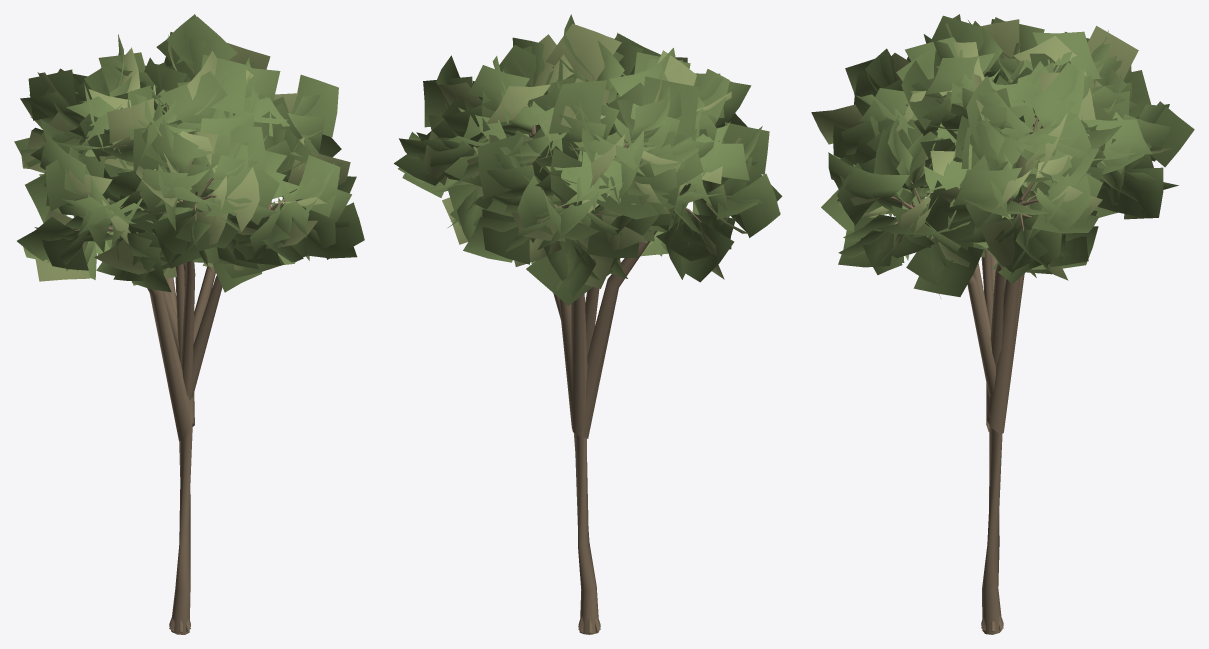
Rendered from roadside-oak.glb.
The picture shows the model from 3 angles, left to right: view 1: azimuth 30°, elevation 25°; view 2: azimuth 150°, elevation 25°; view 3: azimuth 270°, elevation 25°; orthographic projection. The views are drawn at different scales.
Visible parts, largest first — view 1: foliage, foliage-light, wood; view 2: foliage, foliage-light, wood; view 3: foliage, foliage-light, wood.
Part boxes in pixels (x1=…): foliage: x1=14, y1=14, x2=364, y2=292; foliage-light: x1=23, y1=35, x2=359, y2=285; wood: x1=75, y1=70, x2=301, y2=634; foliage: x1=394, y1=14, x2=782, y2=305; foliage-light: x1=424, y1=23, x2=748, y2=288; wood: x1=525, y1=75, x2=730, y2=634; foliage: x1=821, y1=15, x2=1194, y2=297; foliage-light: x1=811, y1=14, x2=1172, y2=280; wood: x1=890, y1=62, x2=1042, y2=634.
Size of the model in its own units: 7.08 by 11.37 by 6.57.
